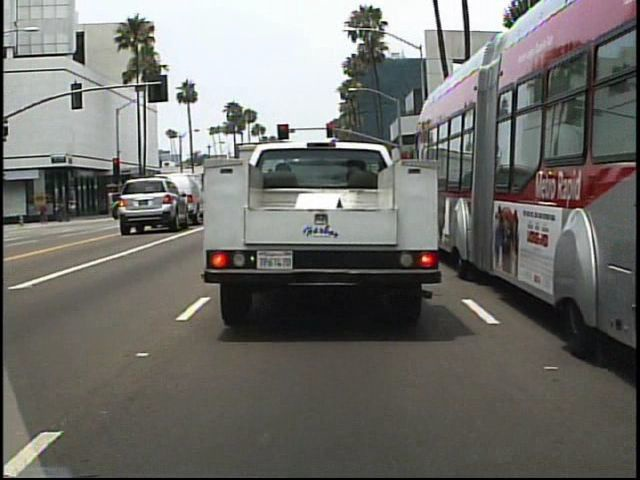person: (37, 195, 52, 225)
